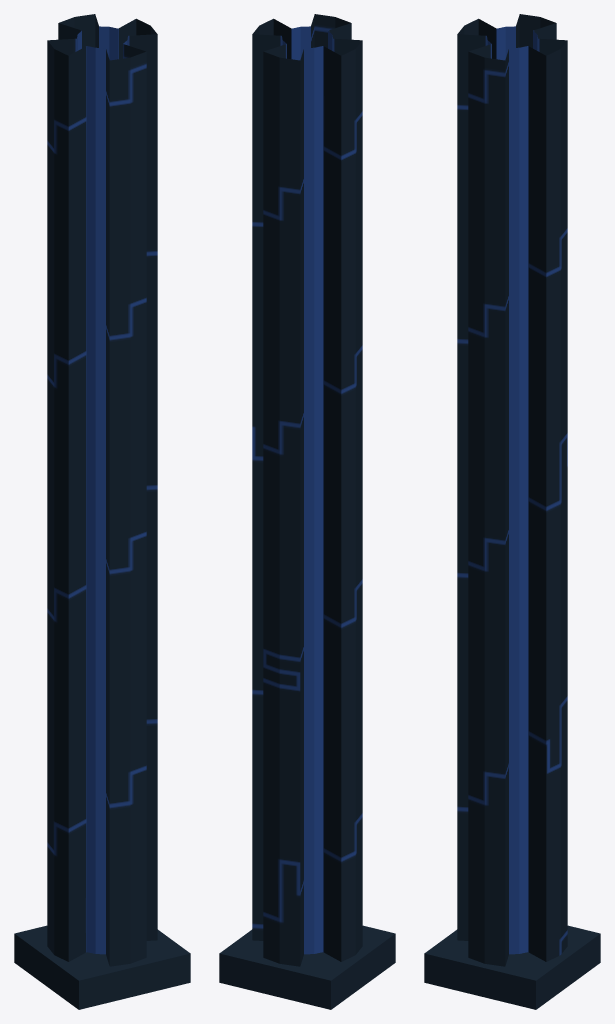
File: Pillar.fbx
3 views of the same model, side by side, from view 1: azimuth 30°, elevation 25°; view 2: azimuth 150°, elevation 25°; view 3: azimuth 330°, elevation 25° (orthographic).
Parts seen in each view (by area): view 1: Model; view 2: Model; view 3: Model.
Boxes of the visible parts, <box> form: Model: <box>14,14,190,1009</box>; Model: <box>219,14,395,1009</box>; Model: <box>424,14,600,1009</box>.
Size of what is drawn, in the model's own units: 400 by 3200 by 400.
1 material, 1 textured.
